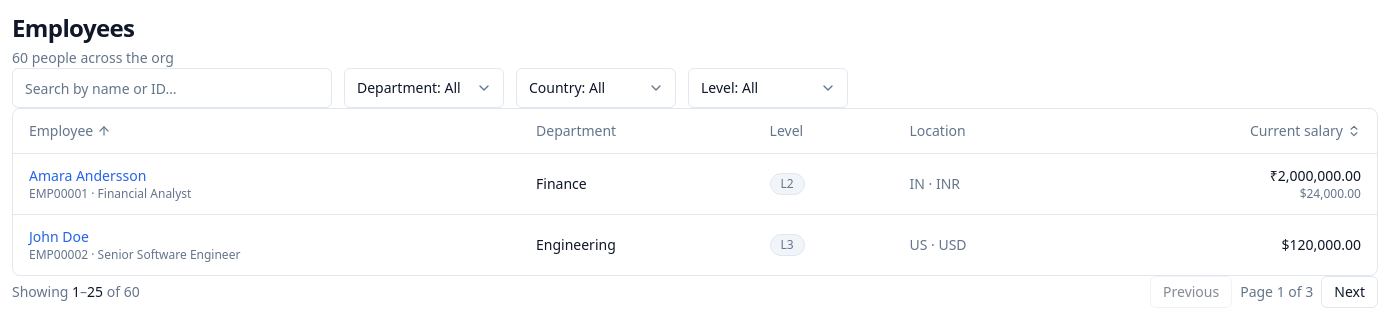
EmployeesPage › reveals a clear-all control once searching
Type "ada" into the search field.
click(172, 88); type("ada")  # box [12,68,332,108]
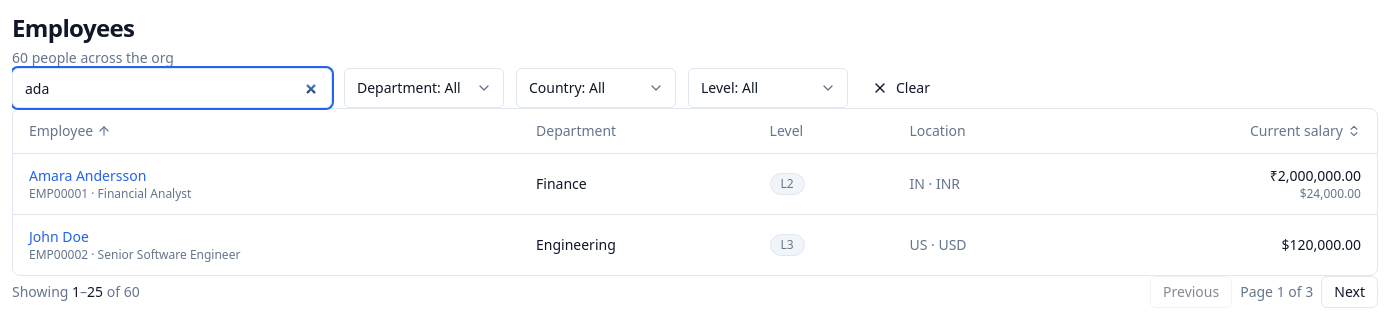
Click the button "Clear".
click(901, 88)  # box [860,72,942,104]
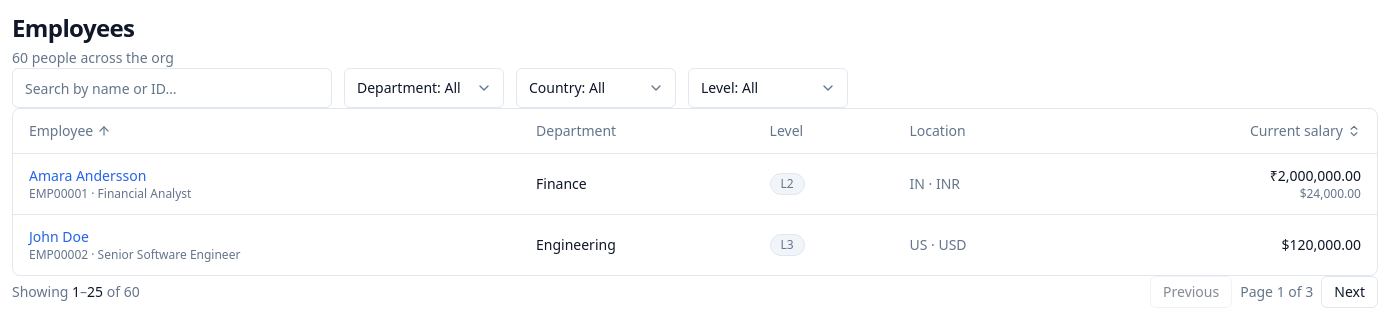
Result: the search field is empty at [12,68,332,108]
